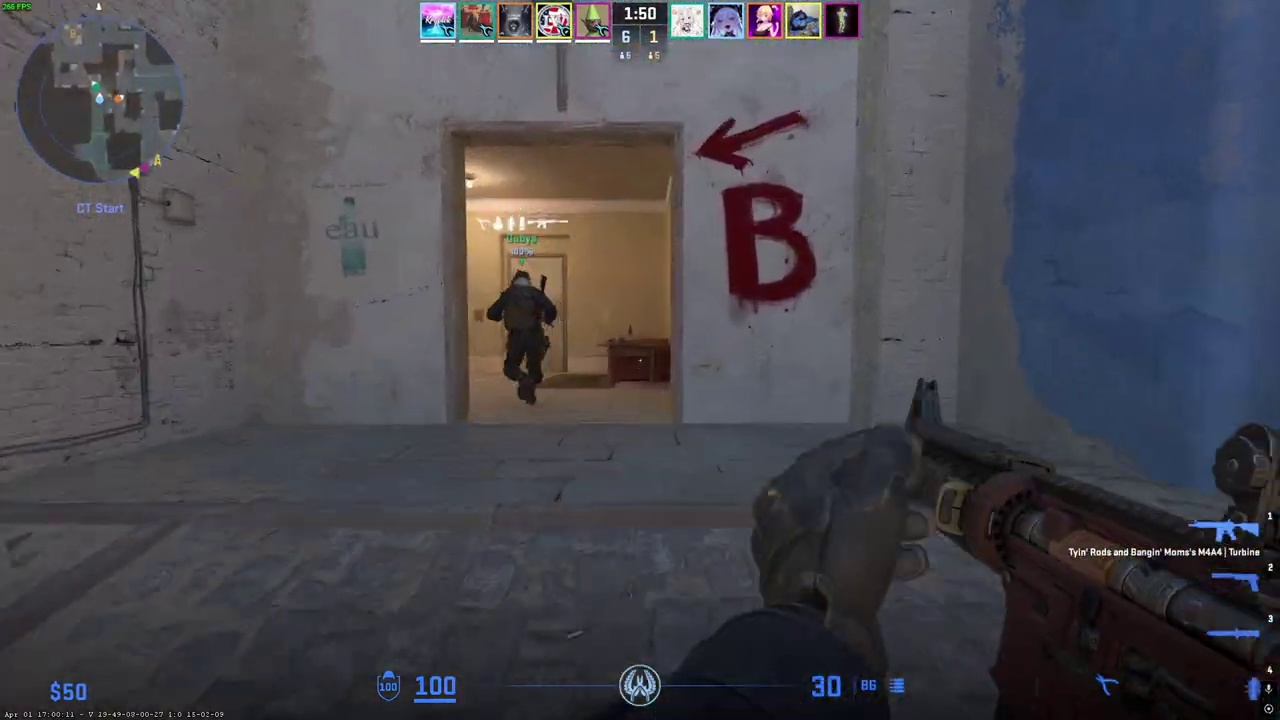CT: (494, 270, 553, 405)
